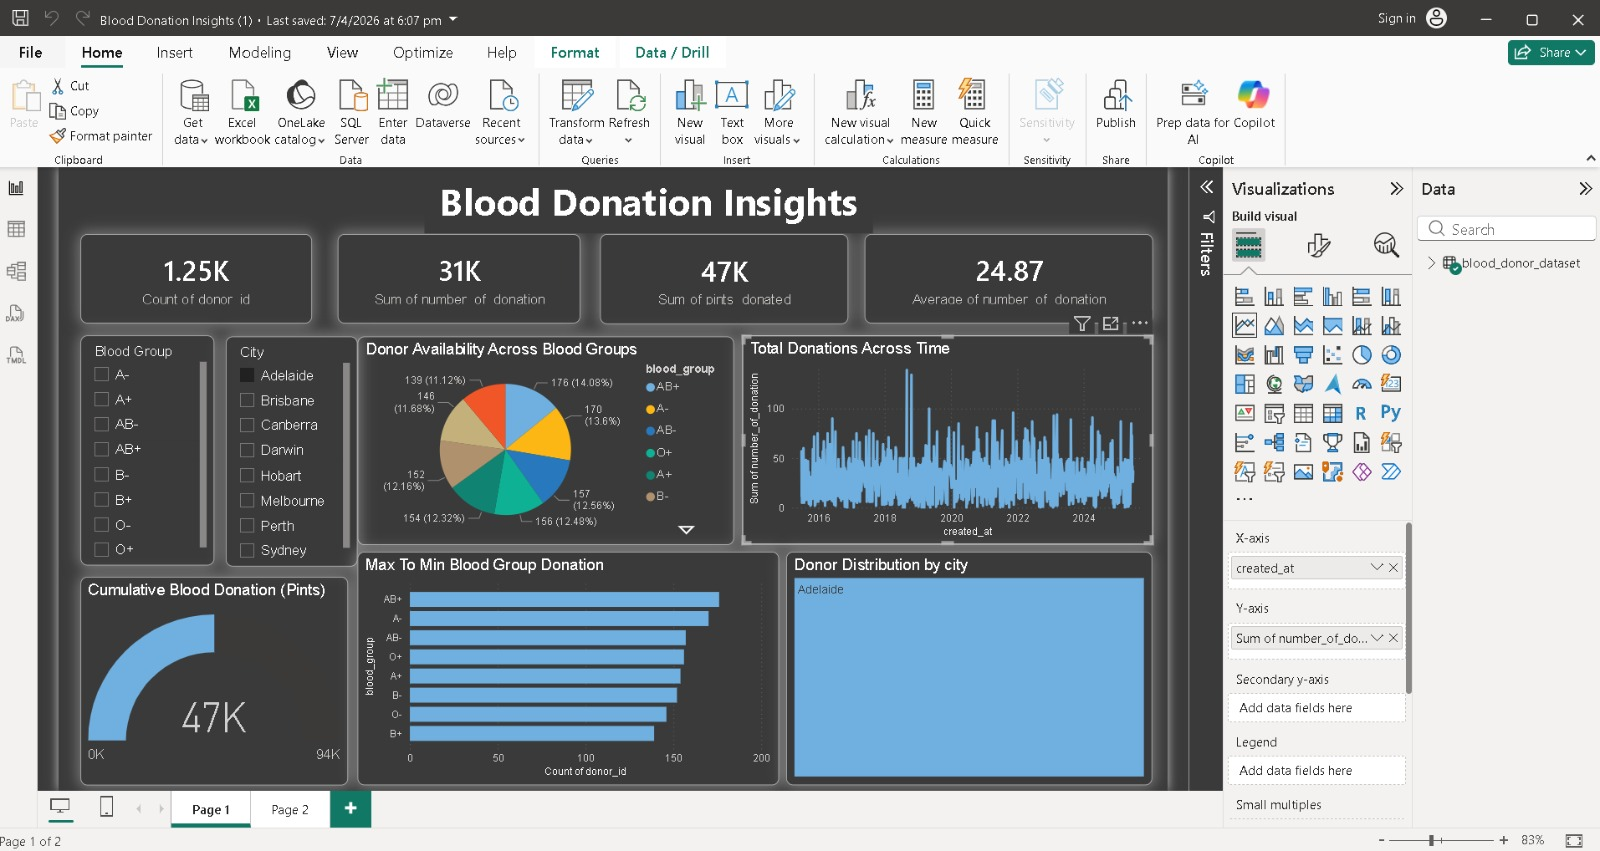

The dashboard page shown, as its layout file describes it:
{"tool":"powerbi","page":{"name":"Page 1","canvas":[1280,720],"ordinal":0},"visuals":[{"type":"cardVisual","fields":{"Data":["CountNonNull(blood_donor_dataset.donor_id)"]},"box":[25.1,76.6,266.8,103],"z":0},{"type":"cardVisual","fields":{"Data":["Sum(blood_donor_dataset.number_of_donation)"]},"box":[322.3,76.6,280,103],"z":1000},{"type":"cardVisual","fields":{"Data":["Sum(blood_donor_dataset.pints_donated)"]},"box":[624.8,76.6,286.6,104.4],"z":2000},{"type":"cardVisual","fields":{"Data":["Avg(blood_donor_dataset.number_of_donation)"]},"box":[929.9,76.6,332.9,103],"z":3000},{"type":"pieChart","title":"Donor Availability Across Blood Groups","fields":{"Category":["blood_donor_dataset.blood_group"],"Y":["CountNonNull(blood_donor_dataset.availability)"]},"box":[344.8,195.5,434.6,240.4],"z":4000},{"type":"lineChart","title":"Total Donations Across Time","fields":{"Category":["blood_donor_dataset.created_at"],"Y":["Sum(blood_donor_dataset.number_of_donation)"]},"box":[788.6,194.2,474.2,241.7],"z":5000},{"type":"textbox","box":[422.7,6.6,517.8,70],"z":6000},{"type":"slicer","fields":{"Values":["blood_donor_dataset.blood_group"]},"box":[25.7,194.3,154.3,265.7],"z":7000},{"type":"gauge","title":"Cumulative Blood Donation (Pints)","fields":{"Y":["Sum(blood_donor_dataset.pints_donated)"]},"box":[25.1,472.9,309.1,240.4],"z":8000},{"type":"slicer","fields":{"Values":["blood_donor_dataset.city"]},"box":[193,195.4,152,265.4],"z":9000},{"type":"clusteredBarChart","title":"Max To Min  Blood Group Donation","fields":{"Y":["CountNonNull(blood_donor_dataset.donor_id)"],"Category":["blood_donor_dataset.blood_group"]},"box":[344.8,443.8,486.1,269.5],"z":10000},{"type":"treemap","title":"Donor Distribution by city","fields":{"Group":["blood_donor_dataset.city"],"Values":["CountNonNull(blood_donor_dataset.donor_id)"]},"box":[840.1,443.8,422.7,269.5],"z":11000}]}

Visuals, with their boxes on the page's 1280x720 design canvas (x1, y1, x2, y2). These are canvas units, not pixel positions in the 1600x851 screenshot, which may show the page scaled, cropped or inside an application window:
cardVisual - CountNonNull(blood_donor_dataset.donor_id): [25, 77, 292, 180]
cardVisual - Sum(blood_donor_dataset.number_of_donation): [322, 77, 602, 180]
cardVisual - Sum(blood_donor_dataset.pints_donated): [625, 77, 911, 181]
cardVisual - Avg(blood_donor_dataset.number_of_donation): [930, 77, 1263, 180]
"Donor Availability Across Blood Groups" pieChart: [345, 196, 779, 436]
"Total Donations Across Time" lineChart: [789, 194, 1263, 436]
textbox: [423, 7, 940, 77]
slicer - blood_donor_dataset.blood_group: [26, 194, 180, 460]
"Cumulative Blood Donation (Pints)" gauge: [25, 473, 334, 713]
slicer - blood_donor_dataset.city: [193, 195, 345, 461]
"Max To Min  Blood Group Donation" clusteredBarChart: [345, 444, 831, 713]
"Donor Distribution by city" treemap: [840, 444, 1263, 713]
